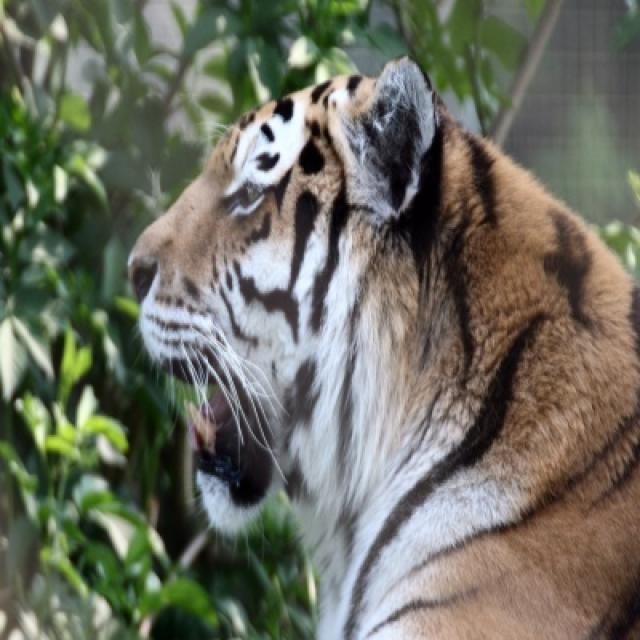Tiger: (128, 58, 638, 638)
